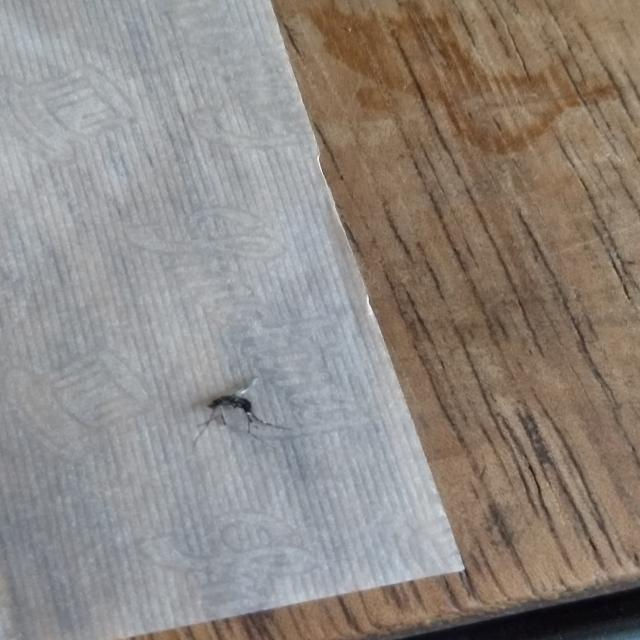albopictus: (192, 372, 295, 444)
